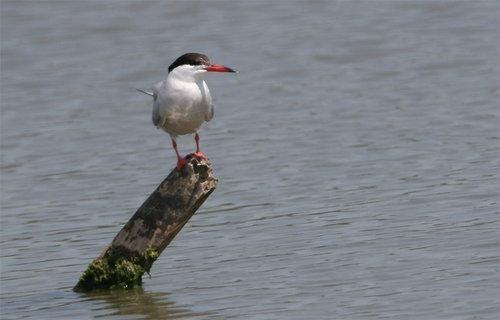bird: (121, 52, 241, 169)
